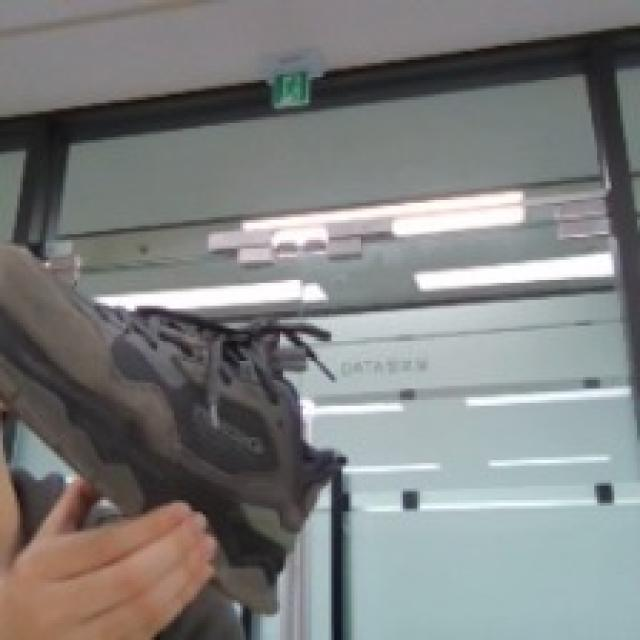shoe: (0, 241, 352, 610)
